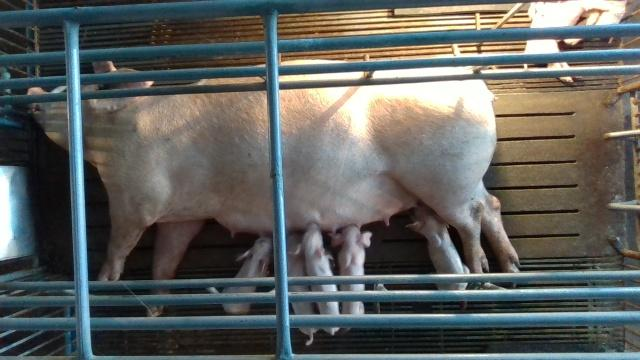piglet: (525, 1, 628, 84), (408, 205, 472, 291), (292, 224, 341, 335), (330, 225, 373, 332), (221, 235, 272, 313), (288, 234, 318, 345)
sow-sleep-lactate: (25, 59, 522, 316)
